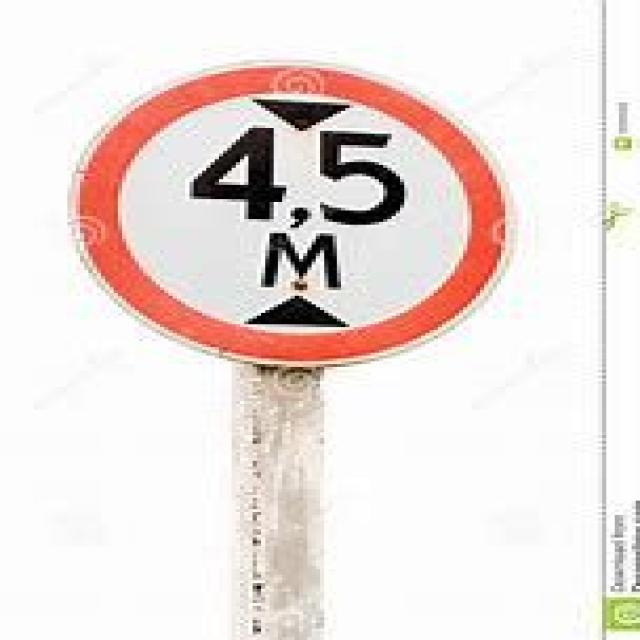height limit: (68, 58, 519, 370)
